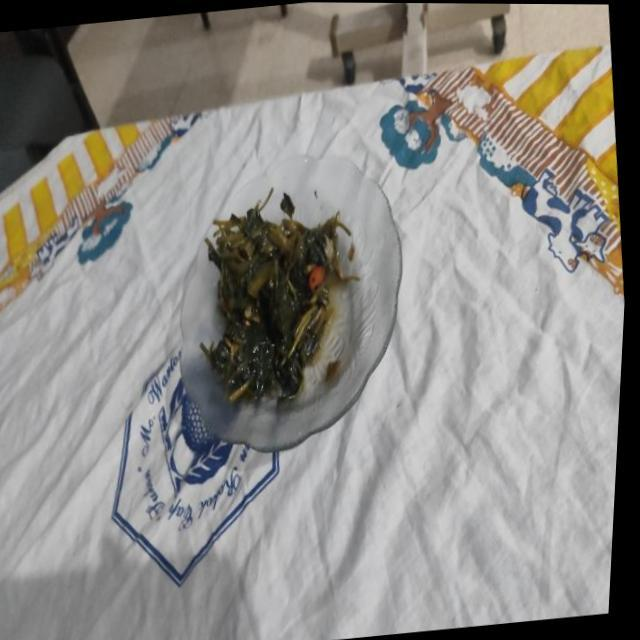tumis_kangkung: (200, 188, 358, 402)
